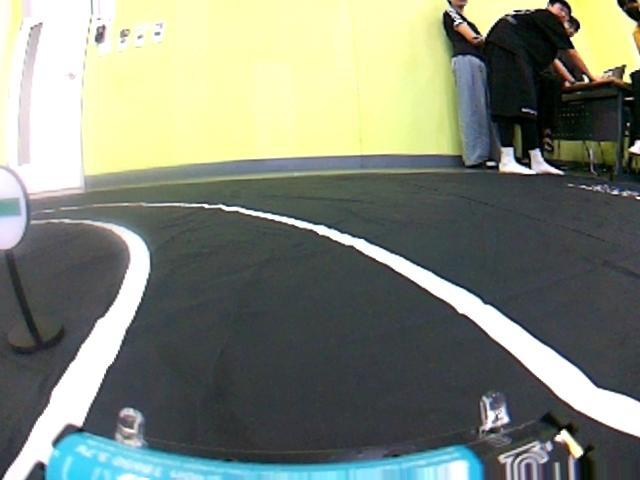sign_left: (0, 157, 34, 260)
straight: (46, 228, 598, 479)
